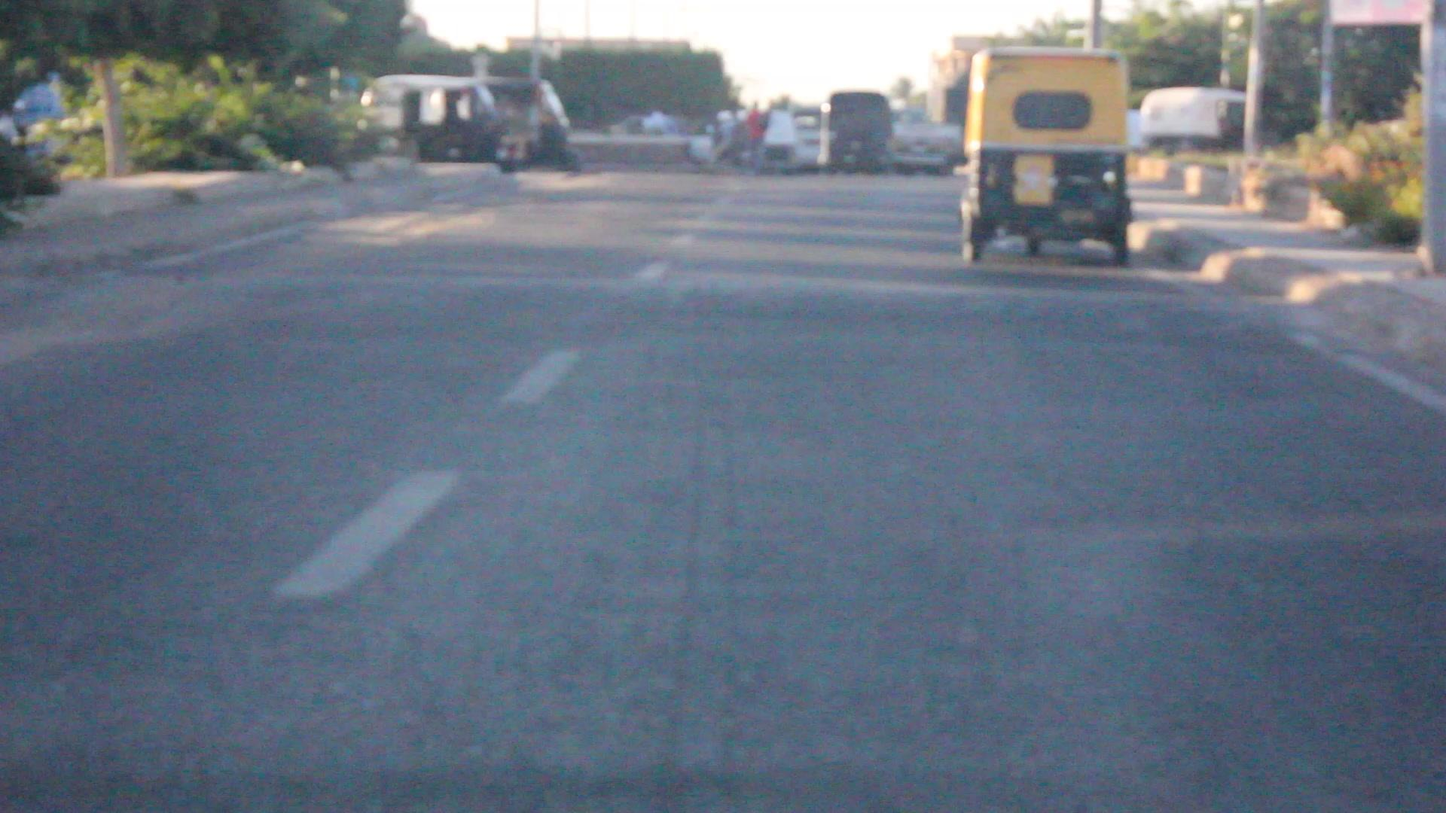Bump: (81, 255, 1298, 317)
